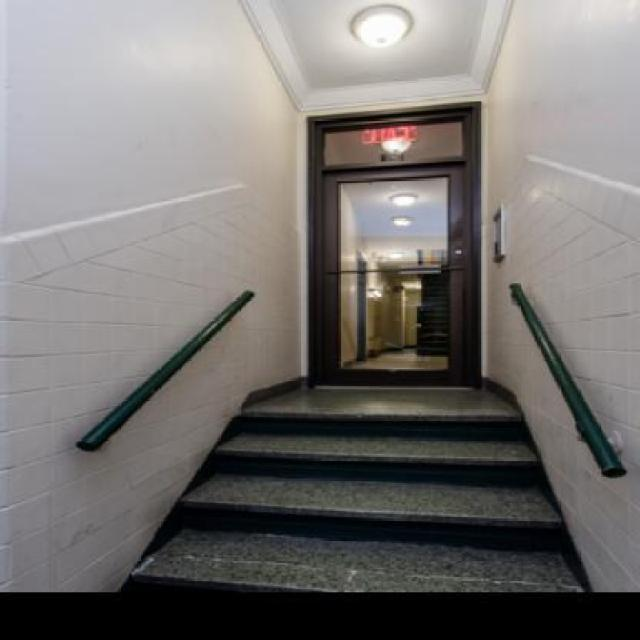stair: (94, 378, 600, 590)
